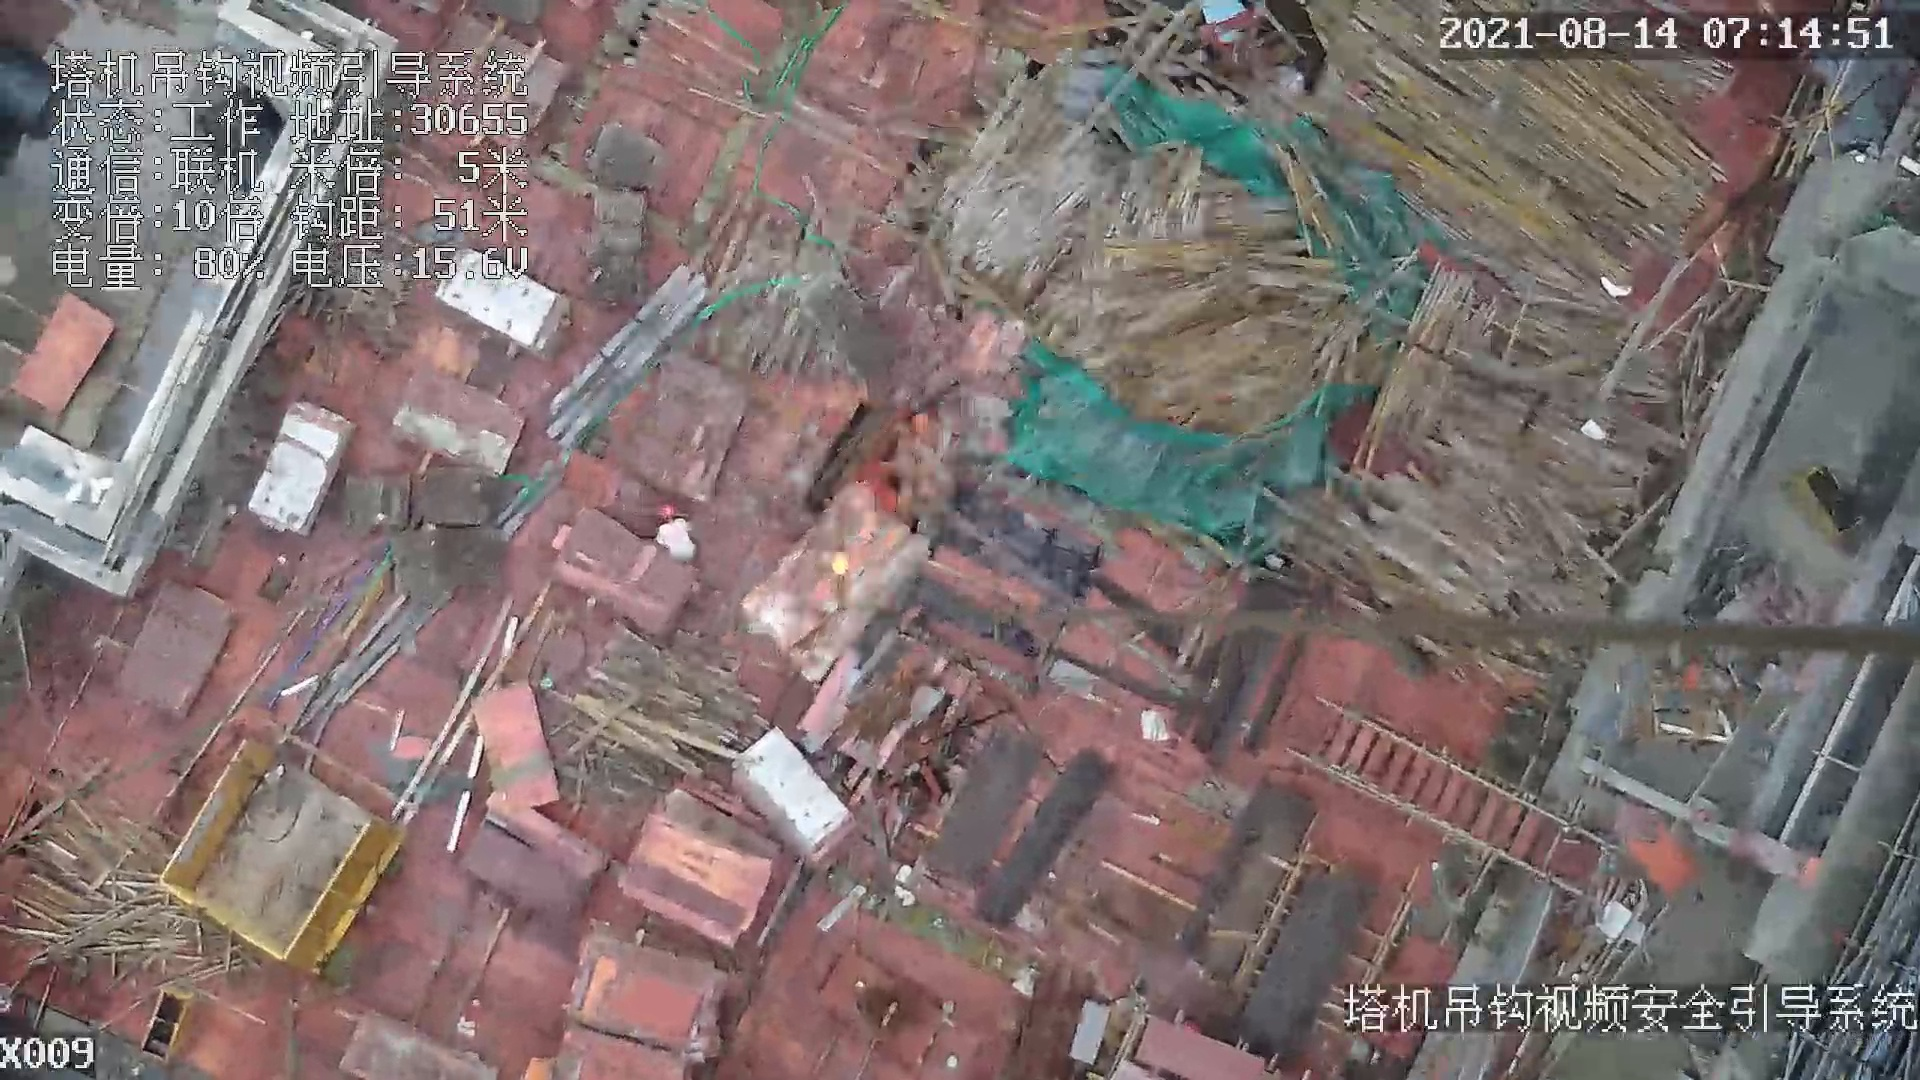hook: (819, 524, 860, 618)
